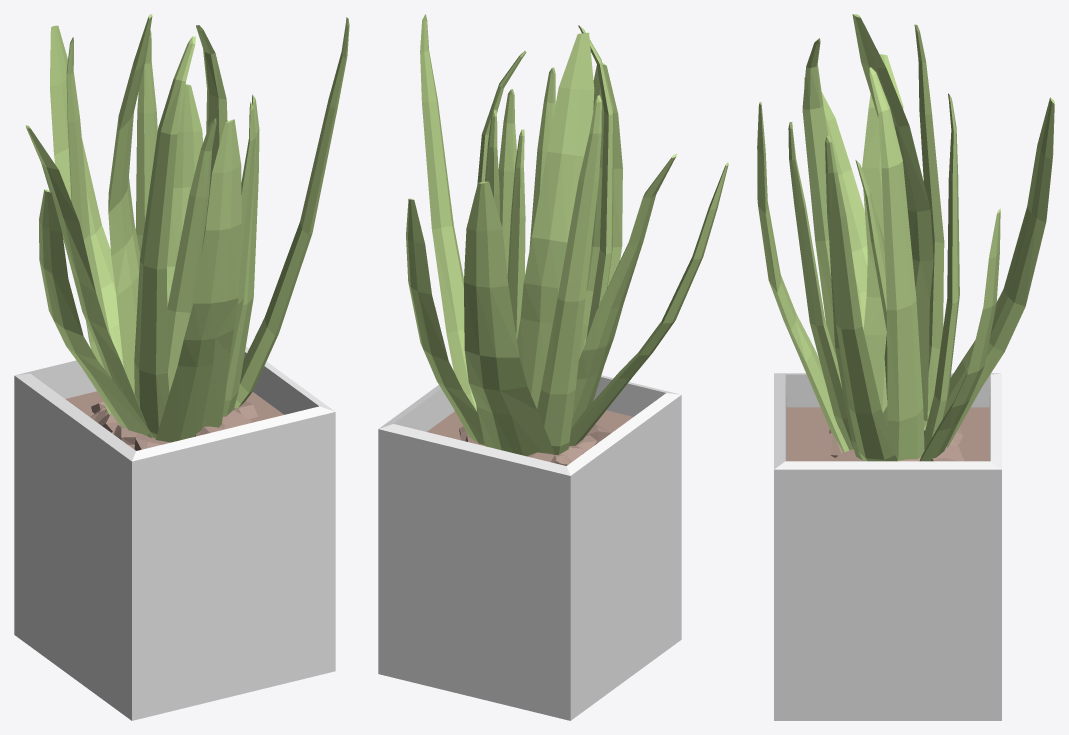
The model's file is plant_with_white_pot.gltf.
The picture shows the model from 3 angles, left to right: view 1: azimuth 30°, elevation 25°; view 2: azimuth 150°, elevation 25°; view 3: azimuth 270°, elevation 25°; orthographic projection. The views are drawn at different scales.
Visible parts, largest first — view 1: mesh1885116500, mesh714662036, mesh1025492697, mesh560799048, mesh1647754183, mesh31856083, mesh24448074, mesh1377232627, mesh2053840647, mesh1507777984, mesh1989238829, mesh1377145234 (+3 smaller); view 2: mesh1885116500, mesh2053840647, mesh560799048, mesh1989238829, mesh1647754183, mesh24448074, mesh1507777984, mesh31856083, mesh714662036, mesh1025492697, mesh1377232627, mesh1781696643 (+3 smaller); view 3: mesh1885116500, mesh1406455588, mesh1647754183, mesh2053840647, mesh560799048, mesh1025492697, mesh1989238829, mesh24448074, mesh714662036, mesh1308825903, mesh1377145234, mesh1507777984 (+3 smaller).
Boxes of the visible parts, x1,y1,x2,y2 form: mesh1885116500: [14, 346, 335, 720]; mesh714662036: [155, 119, 241, 442]; mesh1025492697: [134, 36, 195, 437]; mesh560799048: [108, 14, 152, 393]; mesh1647754183: [234, 17, 349, 410]; mesh31856083: [39, 189, 155, 438]; mesh24448074: [25, 125, 151, 437]; mesh1377232627: [167, 118, 216, 392]; mesh2053840647: [50, 25, 123, 366]; mesh1507777984: [167, 84, 202, 301]; mesh1989238829: [66, 37, 111, 414]; mesh1377145234: [135, 30, 168, 306]; mesh1885116500: [378, 375, 681, 720]; mesh2053840647: [464, 181, 555, 456]; mesh560799048: [517, 32, 594, 408]; mesh1989238829: [537, 95, 601, 454]; mesh1647754183: [420, 14, 477, 411]; mesh24448074: [571, 153, 677, 427]; mesh1507777984: [406, 198, 484, 444]; mesh31856083: [569, 162, 728, 446]; mesh714662036: [582, 63, 622, 351]; mesh1025492697: [578, 25, 613, 340]; mesh1377232627: [507, 129, 525, 339]; mesh1781696643: [498, 89, 516, 275]; mesh1885116500: [774, 373, 1001, 720]; mesh1406455588: [869, 67, 924, 460]; mesh1647754183: [825, 135, 899, 461]; mesh2053840647: [943, 97, 1054, 447]; mesh560799048: [852, 14, 933, 427]; mesh1025492697: [802, 38, 837, 359]; mesh1989238829: [914, 24, 944, 430]; mesh24448074: [862, 54, 903, 412]; mesh714662036: [757, 102, 849, 452]; mesh1308825903: [788, 122, 853, 450]; mesh1377145234: [924, 93, 959, 449]; mesh1507777984: [919, 208, 1000, 461].
Bounding box in the file's own units: 0.1453 × 0.2918 × 0.1233.
